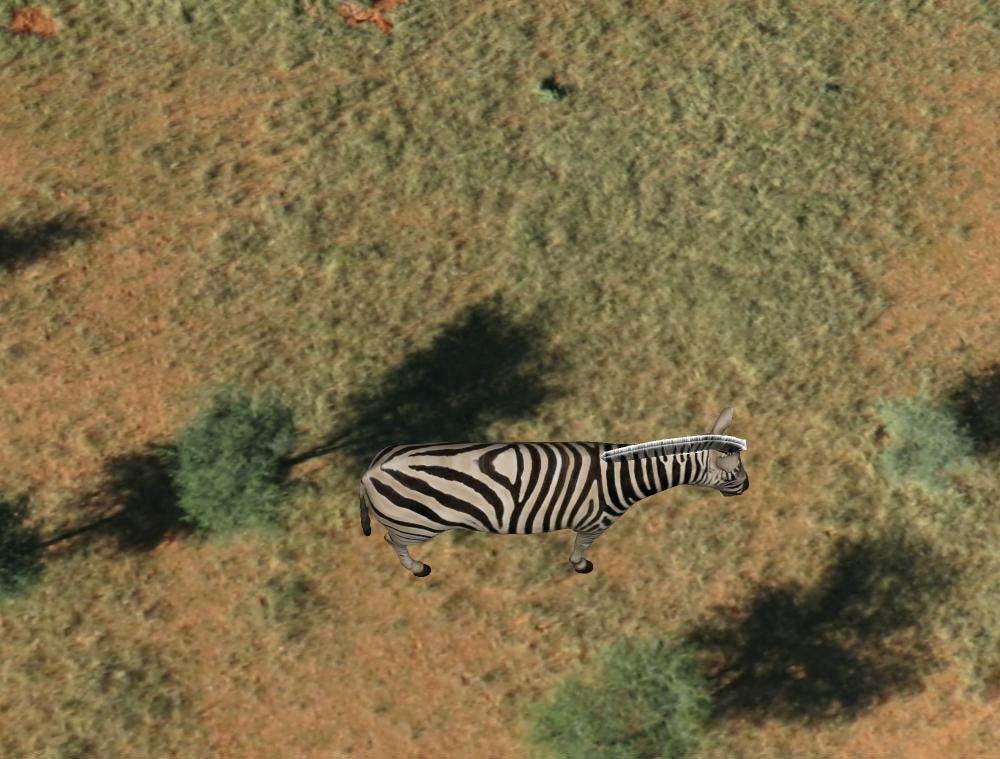zebra: (358, 408, 752, 573)
